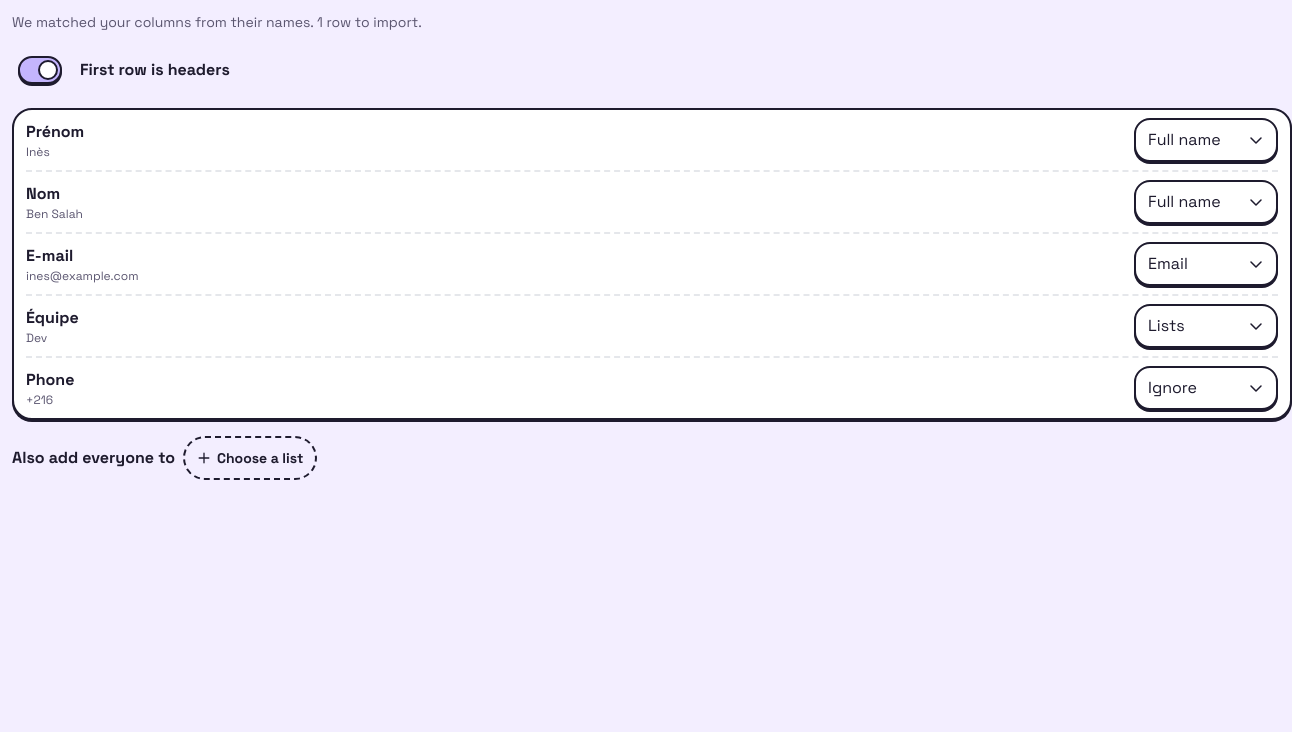
Test case: MatchStep › explains a missing Email column
Click the dropdown named "What is E-mail?".
click(1206, 264)  # box [1134, 242, 1278, 286]
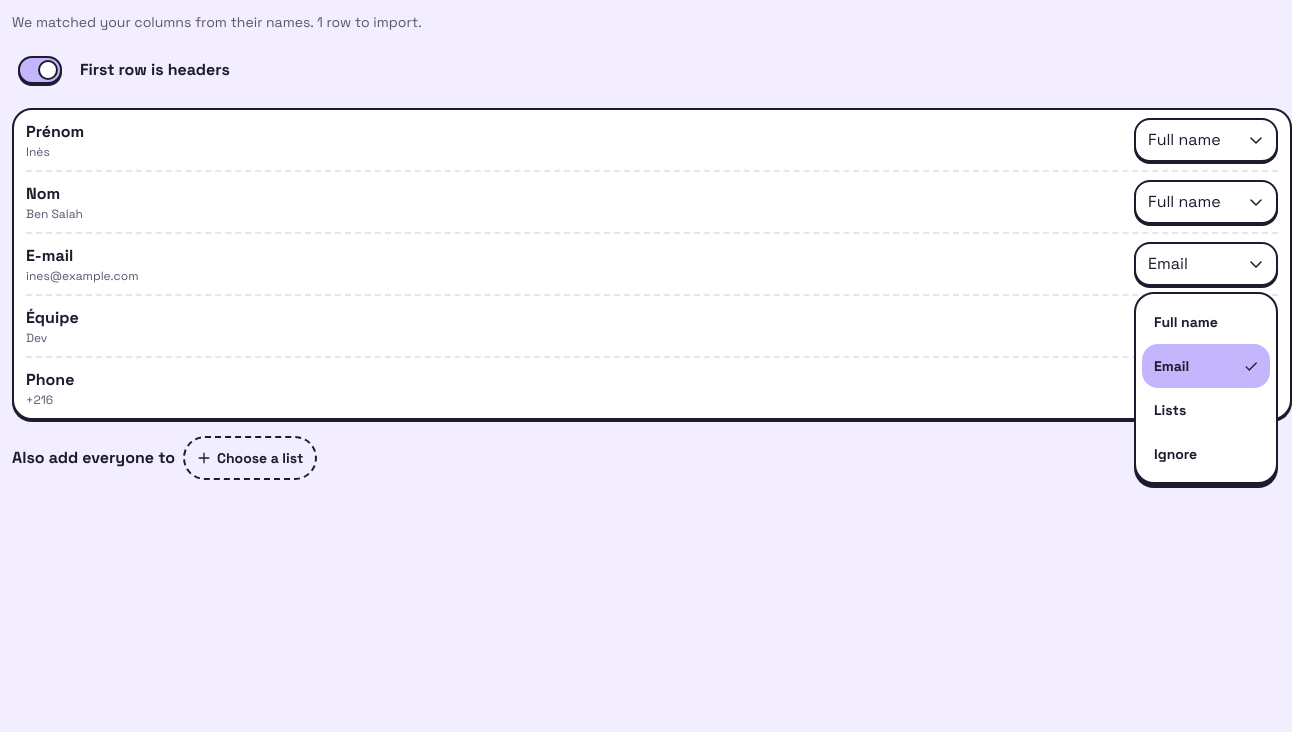
Click the option "Ignore".
click(1176, 454)  # box [1154, 445, 1197, 463]
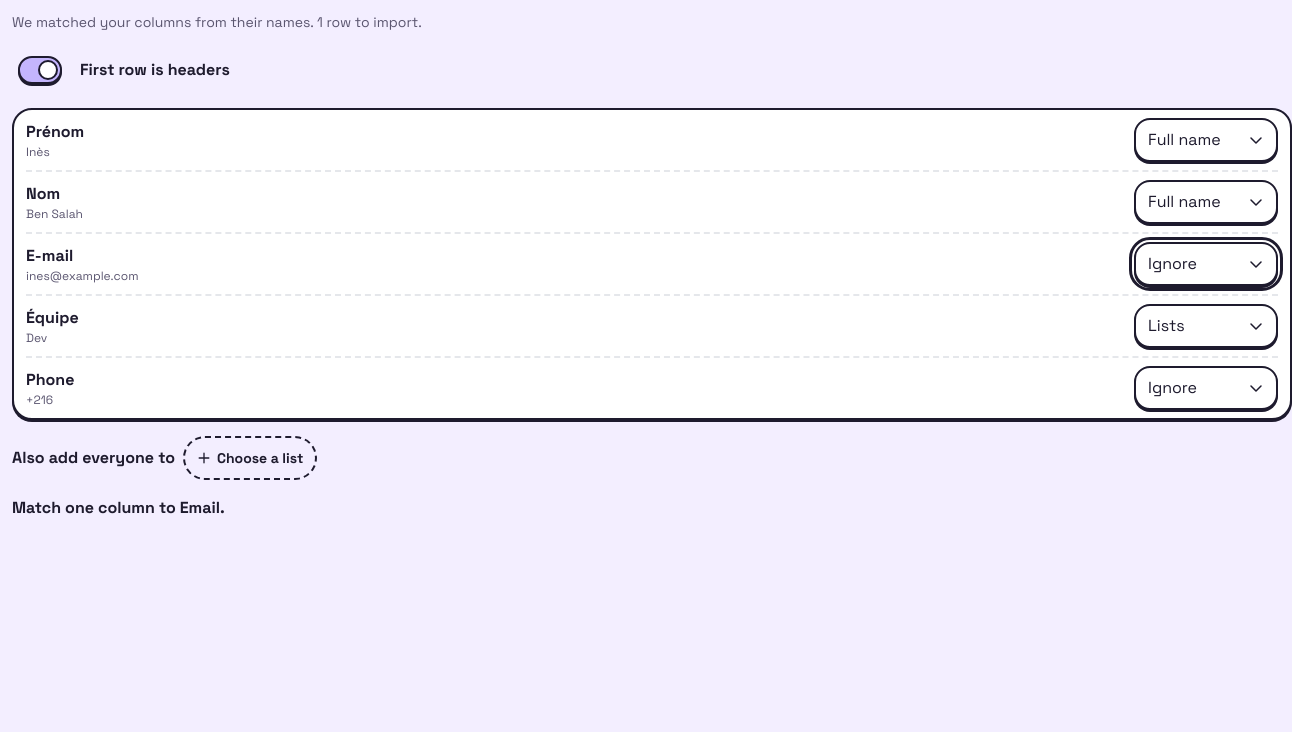
Expected: the text "Match one column to Email." is shown, [12, 497, 225, 518]
